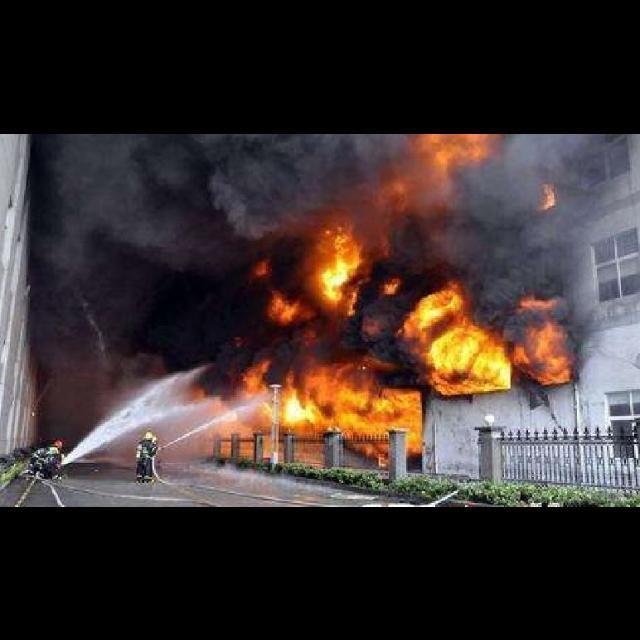Fire: (240, 134, 572, 466)
Smoke: (29, 134, 232, 462), (498, 134, 630, 294)
